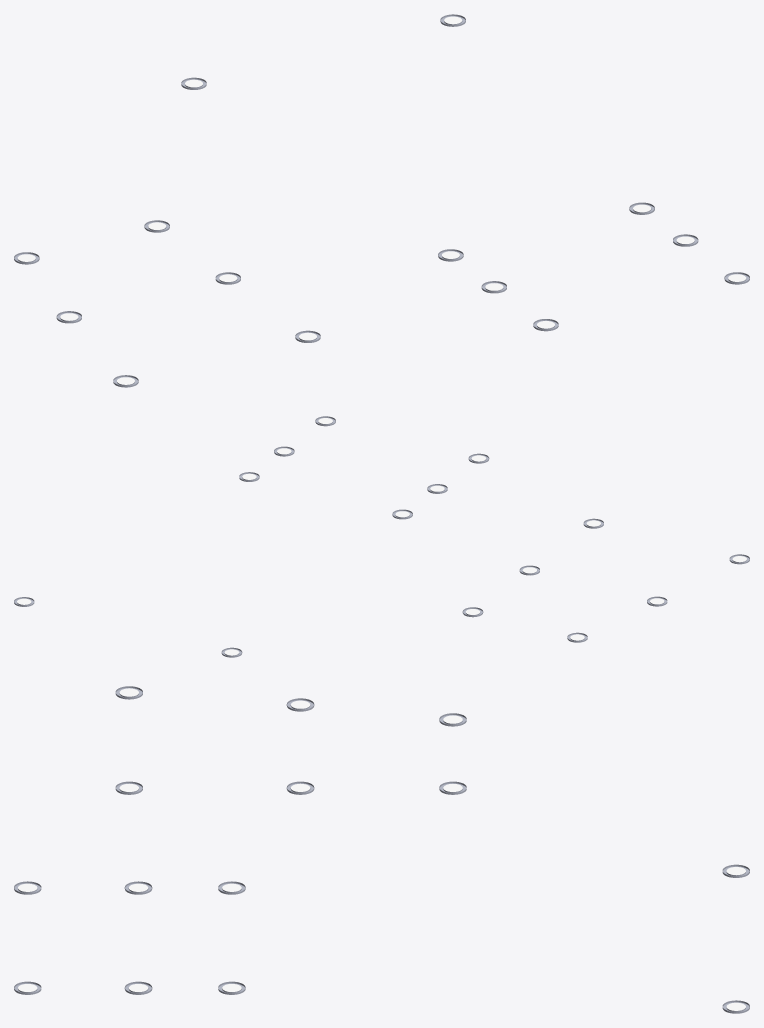
Rendered from luces_techo2.glb.
3 views of the same model, one above another, from view 1: azimuth 30°, elevation 25°; view 2: azimuth 150°, elevation 25°; view 3: azimuth 270°, elevation 25° (orthographic). The views are drawn at different scales.
Parts seen in each view (by area): view 1: luces0.001; view 2: luces0.001; view 3: luces0.001.
Part boxes in pixels (box(x1,y1,x2,y2)): luces0.001: box(14, 14, 749, 387); luces0.001: box(14, 416, 749, 657); luces0.001: box(14, 686, 749, 1013).
Bounding box in the file's own units: 57.07 × 0.563 × 53.62.
